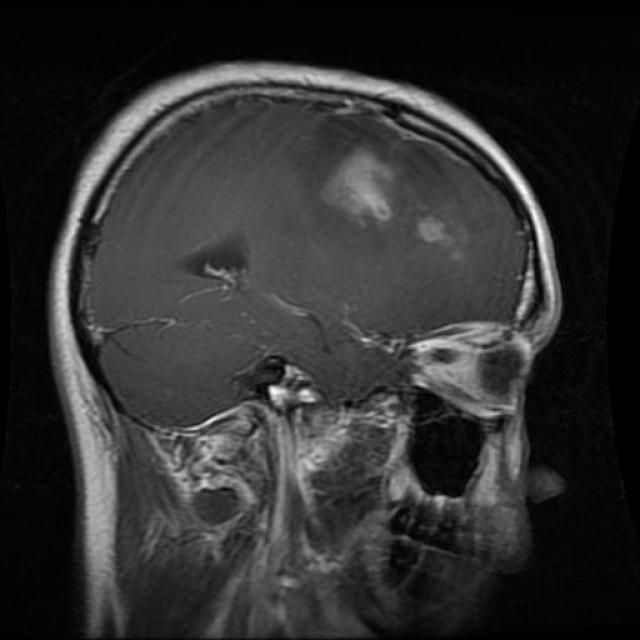glioma: (314, 134, 415, 236)
